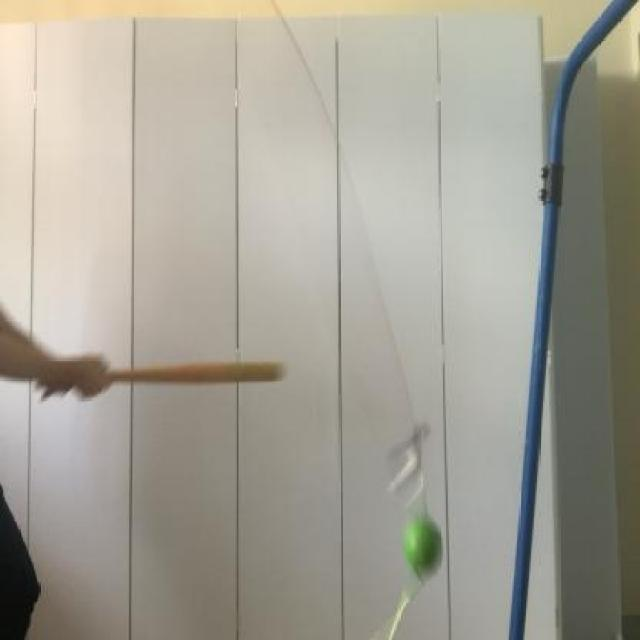baseball: (386, 512, 456, 588)
